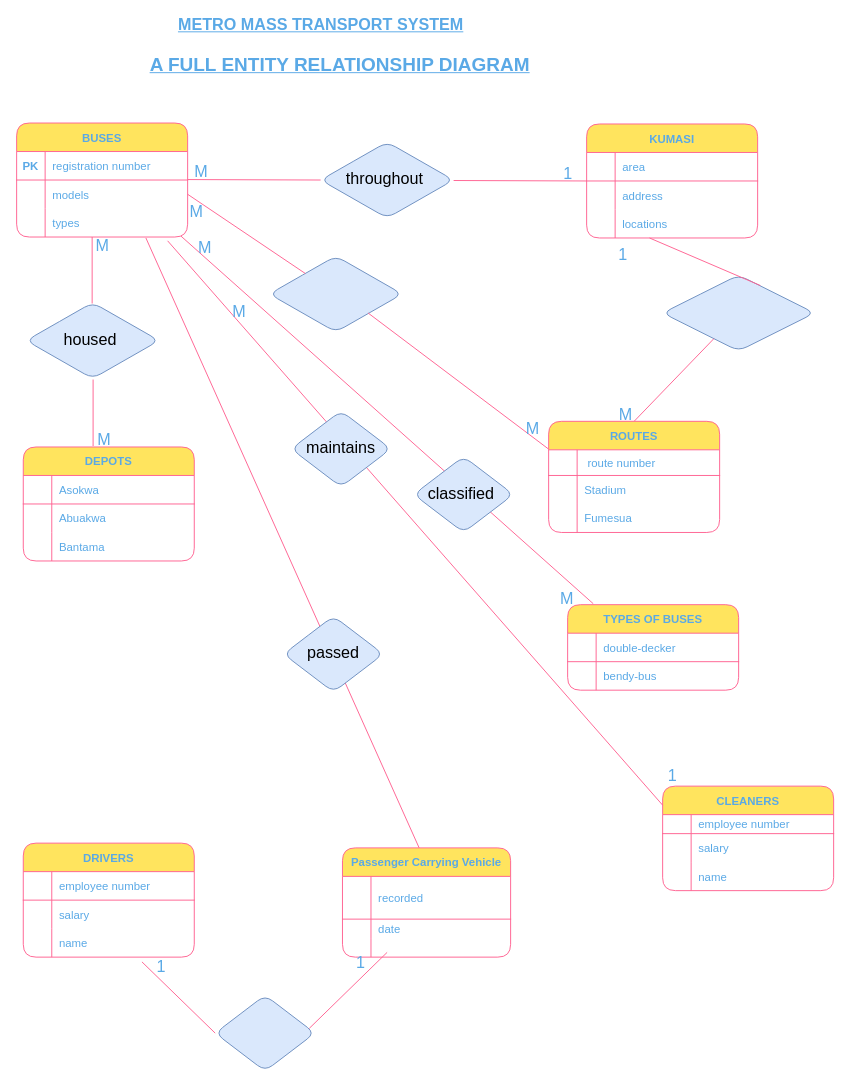
Image size: 850x1088. Some labels were removed from this diagram. The centre of each missing label's shape, as x and y in pixels:
finishing points: point (738, 312)
starting: point (335, 293)
training: point (264, 1032)
